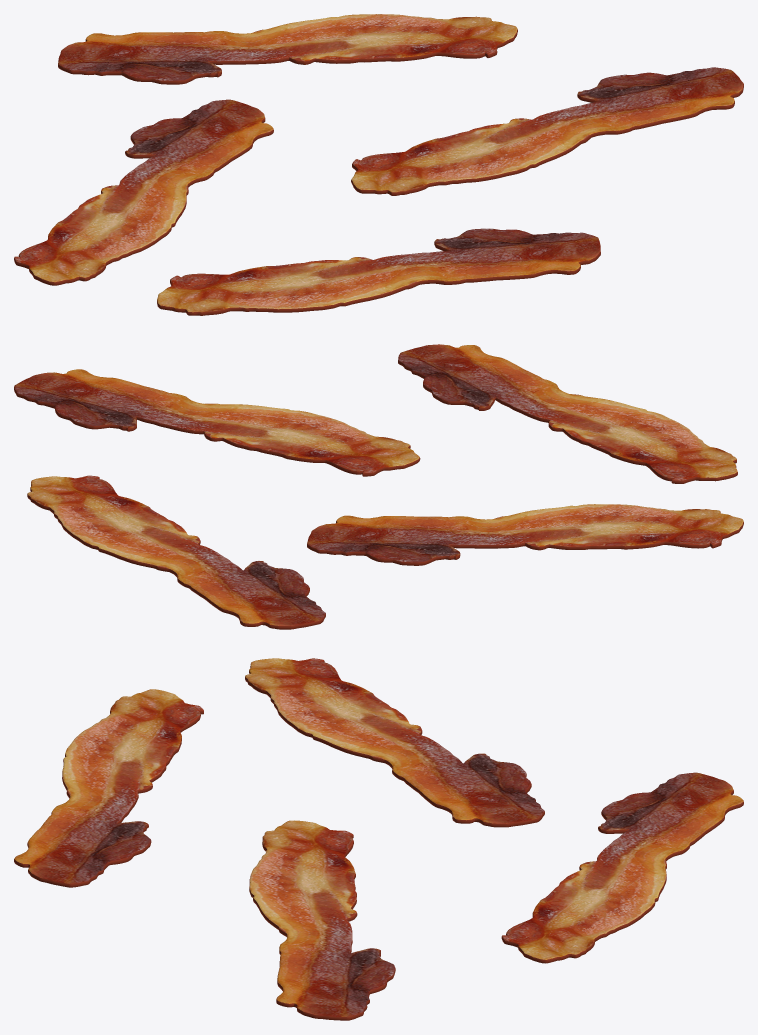
File: Bacon.fbx
The picture shows the model from 3 angles, top to bottom: view 1: azimuth 30°, elevation 25°; view 2: azimuth 150°, elevation 25°; view 3: azimuth 270°, elevation 25°; orthographic projection. The views are drawn at different scales.
Parts seen in each view (by area): view 1: Line001.002, Line001.001, Line001.003, Line001; view 2: Line001, Line001.003, Line001.001, Line001.002; view 3: Line001, Line001.002, Line001.001, Line001.003.
Part boxes in pixels (box(x1,y1,x2,y2)): Line001.002: box(58, 14, 517, 84); Line001.001: box(157, 228, 600, 315); Line001.003: box(351, 67, 743, 195); Line001: box(14, 99, 273, 285); Line001: box(307, 504, 743, 565); Line001.003: box(14, 369, 420, 476); Line001.001: box(398, 344, 737, 483); Line001.002: box(27, 475, 325, 629); Line001: box(245, 658, 544, 827); Line001.002: box(501, 772, 743, 963); Line001.001: box(14, 689, 203, 887); Line001.003: box(249, 820, 395, 1020).
Bounding box in the file's own units: 74.18 × 0.4306 × 63.7.
Materials: 4 (4 with a texture image).
